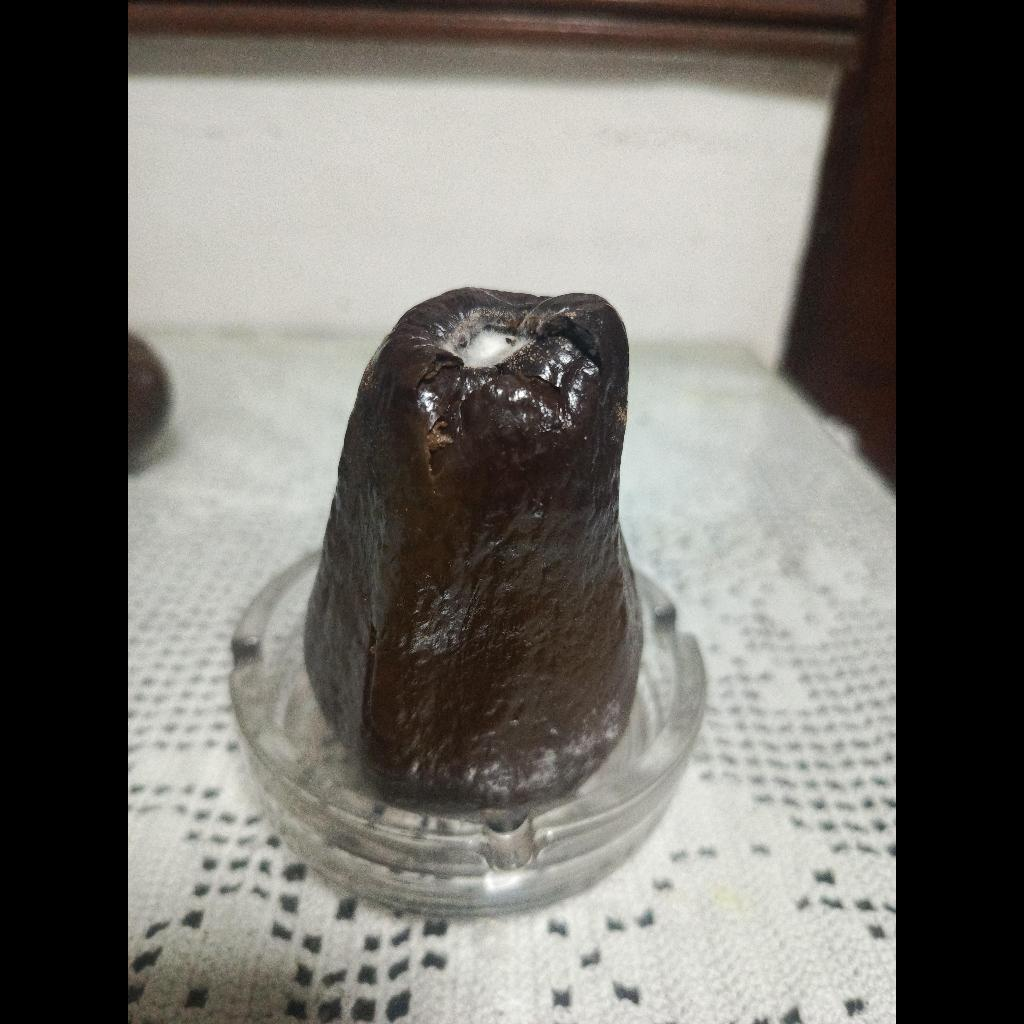pudricion_peduncular: (305, 288, 642, 814)
